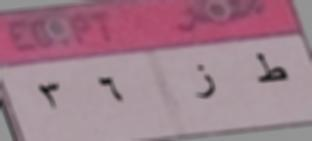3: (36, 78, 62, 113)
6: (98, 70, 127, 109)
Taa: (251, 47, 290, 92)
zay: (191, 60, 217, 108)
